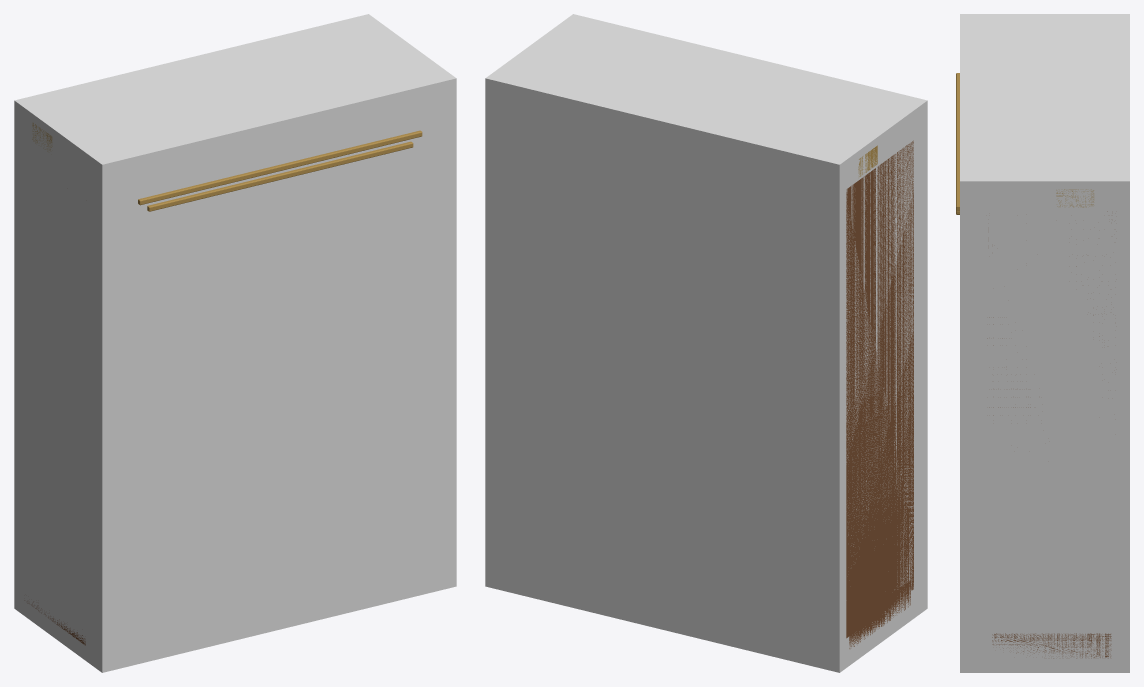
File: club-rack_luxury.glb
3 renders of one model, left to right at view 1: azimuth 30°, elevation 25°; view 2: azimuth 150°, elevation 25°; view 3: azimuth 270°, elevation 25°, orthographic. The views are drawn at different scales.
Parts seen in each view (by area): view 1: COL_club-rack, MESH_TierTrim_01, MESH_TierTrim_02; view 2: COL_club-rack, MESH_BuiltInSide, MESH_BuiltInPlinth; view 3: COL_club-rack, MESH_BuiltInPlinth, MESH_TierTrim_01.
Boxes of the visible parts, <box> form: COL_club-rack: <box>14,14,456,672</box>; MESH_TierTrim_01: <box>138,130,422,205</box>; MESH_TierTrim_02: <box>147,141,413,211</box>; COL_club-rack: <box>485,14,927,672</box>; MESH_BuiltInSide: <box>846,140,913,638</box>; MESH_BuiltInPlinth: <box>849,580,910,648</box>; COL_club-rack: <box>960,14,1129,672</box>; MESH_BuiltInPlinth: <box>992,633,1111,658</box>; MESH_TierTrim_01: <box>956,73,959,210</box>.
Bounding box in the file's own units: 1.35 × 1.85 × 0.593.
